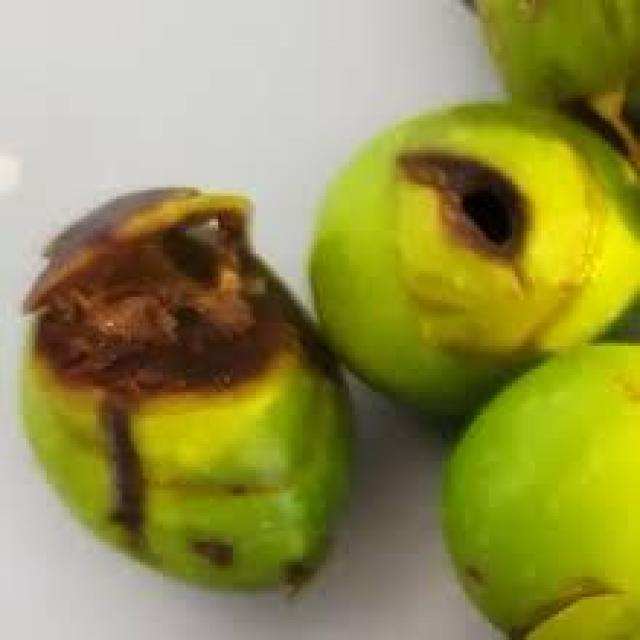Olive Fruit Fly: (20, 187, 349, 585), (311, 107, 637, 409)
